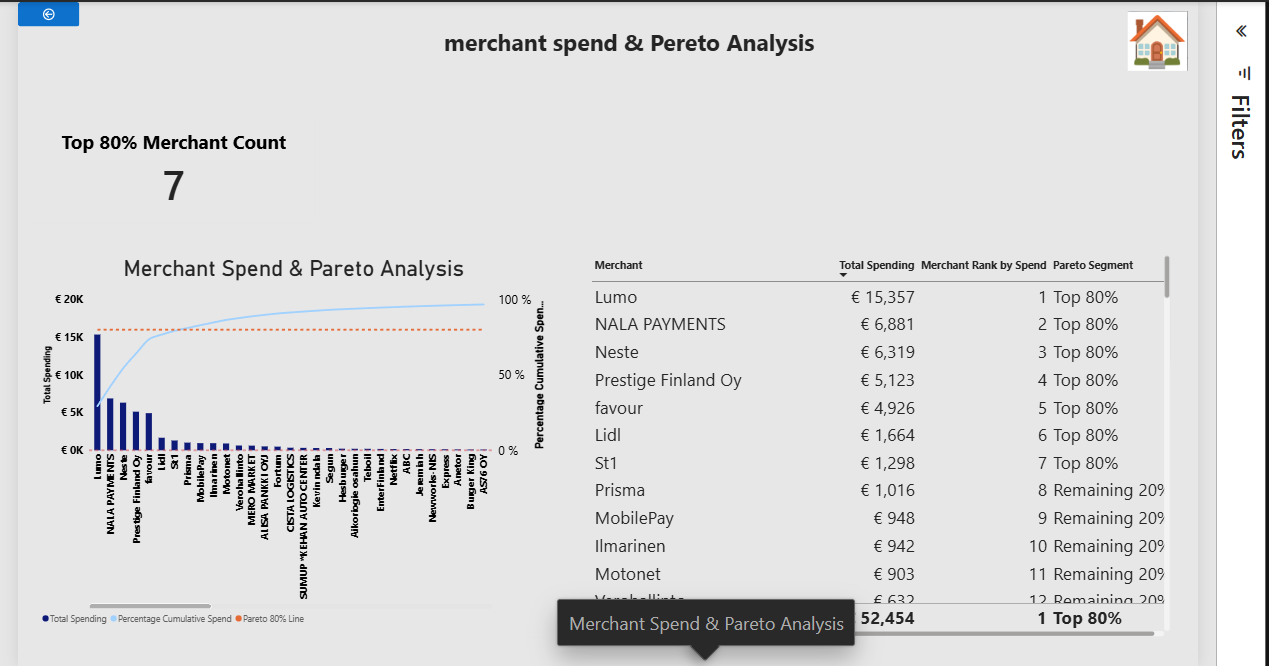

Layout of this report page (visuals, bound fields, positions):
{"tool":"powerbi","page":{"name":"Merchant Spend & Pareto Analysis ","canvas":[1920,1080],"ordinal":2},"visuals":[{"type":"tableEx","fields":{"Values":["bank_statement_fact.Merchant","_measure.Total Spending","_measure.Merchant Rank by Spend","_measure.Pareto Segment"]},"box":[914.9,397.7,975.9,651.4],"z":0},{"type":"lineStackedColumnComboChart","title":"Merchant Spend & Pareto Analysis","fields":{"Category":["bank_statement_fact.Merchant"],"Y":["_measure.Total Spending"],"Y2":["_measure.Percentage Cumulative Spend","_1_2_measure.Pareto 80% Line"]},"box":[22,397.7,851.5,636.8],"z":1000},{"type":"cardVisual","fields":{"Data":["_measure.Top 80% Merchant Count"]},"box":[22,183,461.1,178.1],"z":2000},{"type":"image","box":[1788.4,14.6,131.8,97.6],"z":3000},{"type":"actionButton","box":[0,0,100,40],"z":4000},{"type":"textbox","box":[509.9,39,968.6,53.7],"z":5000}]}

Visuals, with their boxes on the page's 1920x1080 design canvas (x1, y1, x2, y2). These are canvas units, not pixel positions in the 1269x666 screenshot, which may show the page scaled, cropped or inside an application window:
tableEx - bank_statement_fact.Merchant x _measure.Total Spending: [915, 398, 1891, 1049]
"Merchant Spend & Pareto Analysis" lineStackedColumnComboChart: [22, 398, 874, 1034]
cardVisual - _measure.Top 80% Merchant Count: [22, 183, 483, 361]
image: [1788, 15, 1920, 112]
actionButton: [0, 0, 100, 40]
textbox: [510, 39, 1478, 93]
